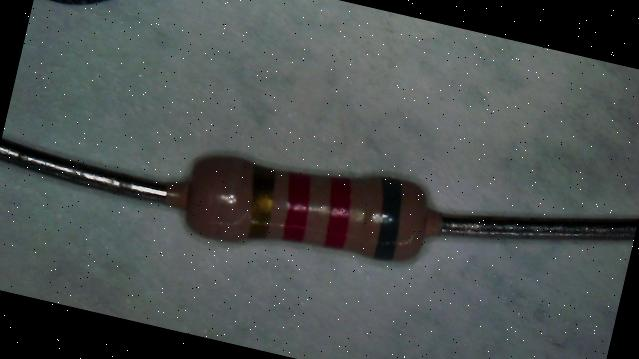gold: (242, 166, 282, 240)
grey: (366, 176, 411, 262)
red: (321, 176, 358, 249), (280, 172, 318, 242)
resistor: (153, 116, 464, 285)
